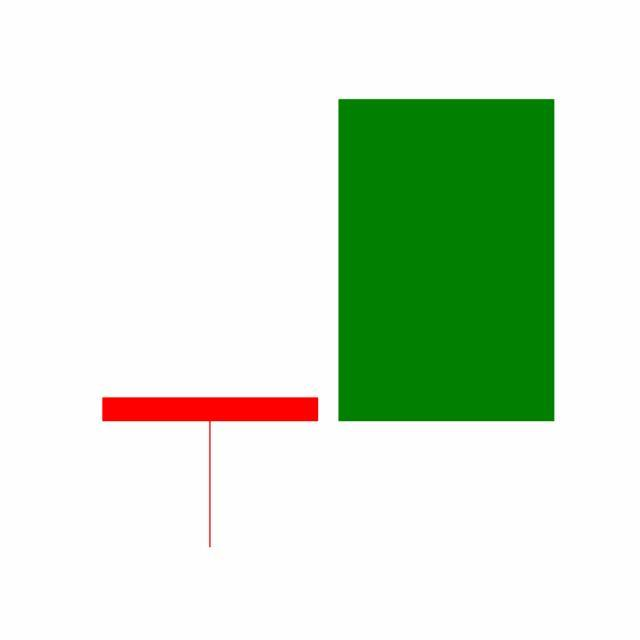Marubozu: (328, 97, 566, 426)
